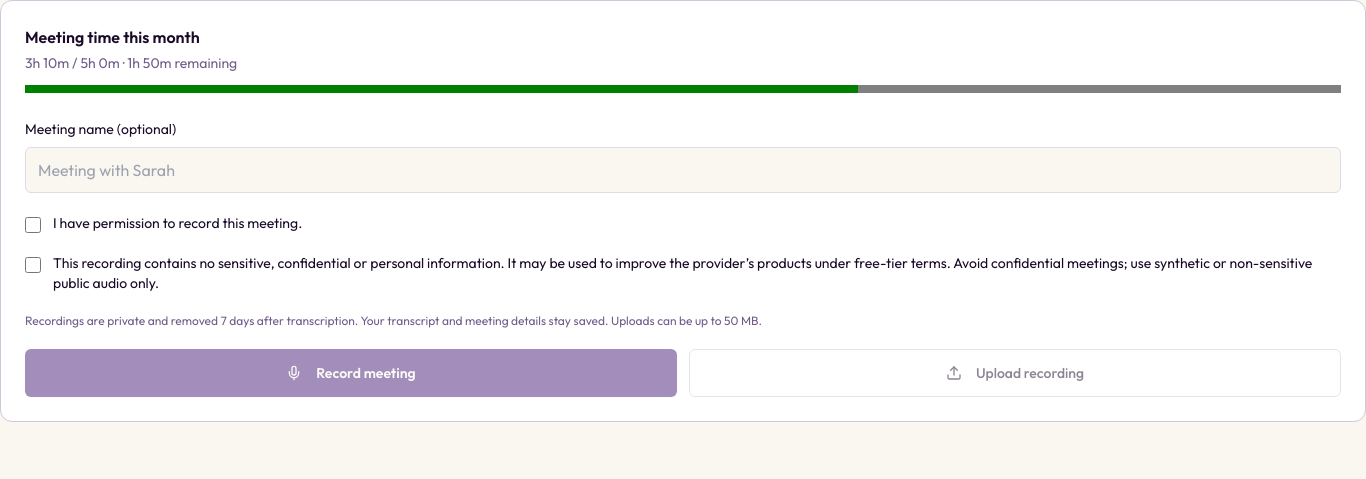
meeting capture › explains microphone denial without claiming a recording exists
The image size is (1366, 479).
expect the text "3h 10m / 5h 0m · 1h 50m remaining" is shown: met, box x1=25 y1=54 x2=237 y2=72
Step 1. Click the checkbox labelled "I have permission to record this meeting." → (33, 225), box x1=25 y1=217 x2=41 y2=233
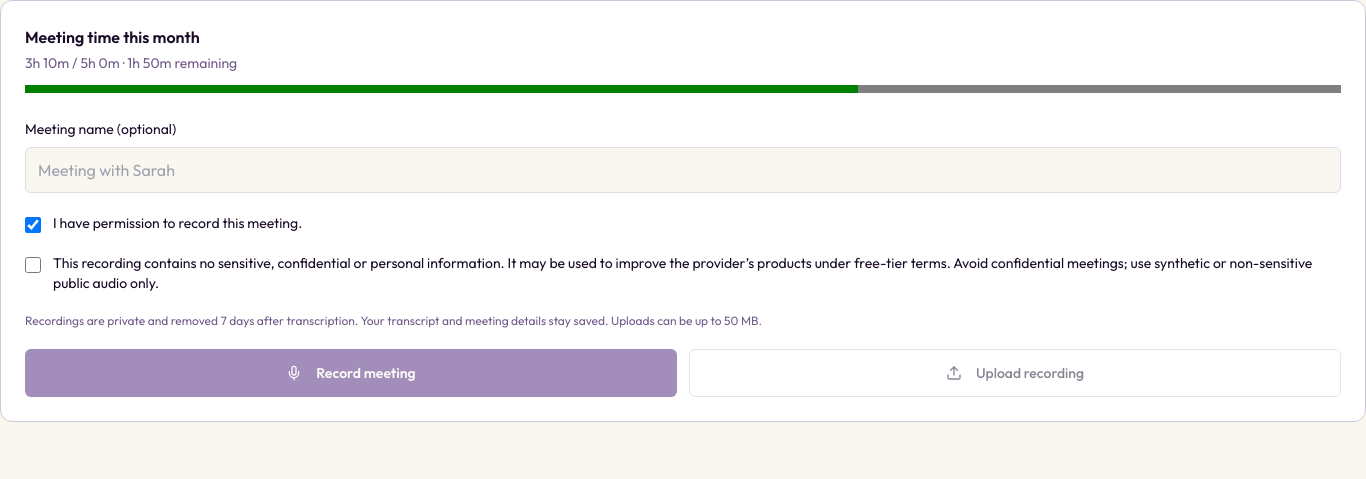
Step 2. Click the 2nd checkbox → (33, 265), box x1=25 y1=257 x2=41 y2=273
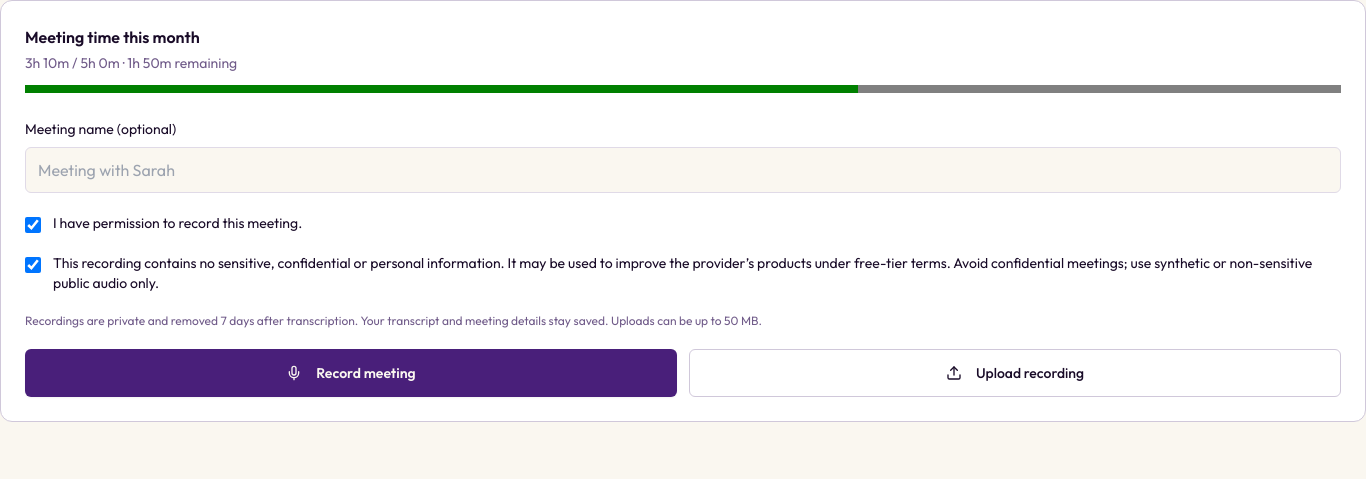
Step 3. Click the button "Record meeting" → (351, 373), box x1=25 y1=349 x2=677 y2=397
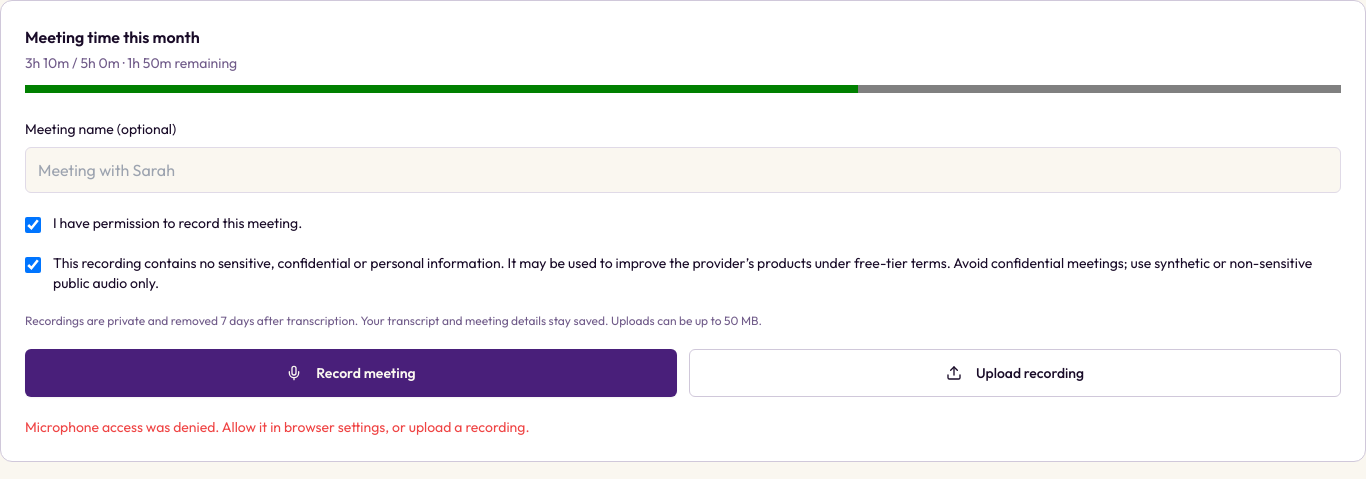
expect the message shows "Microphone access was denied": met, box x1=25 y1=418 x2=530 y2=436
